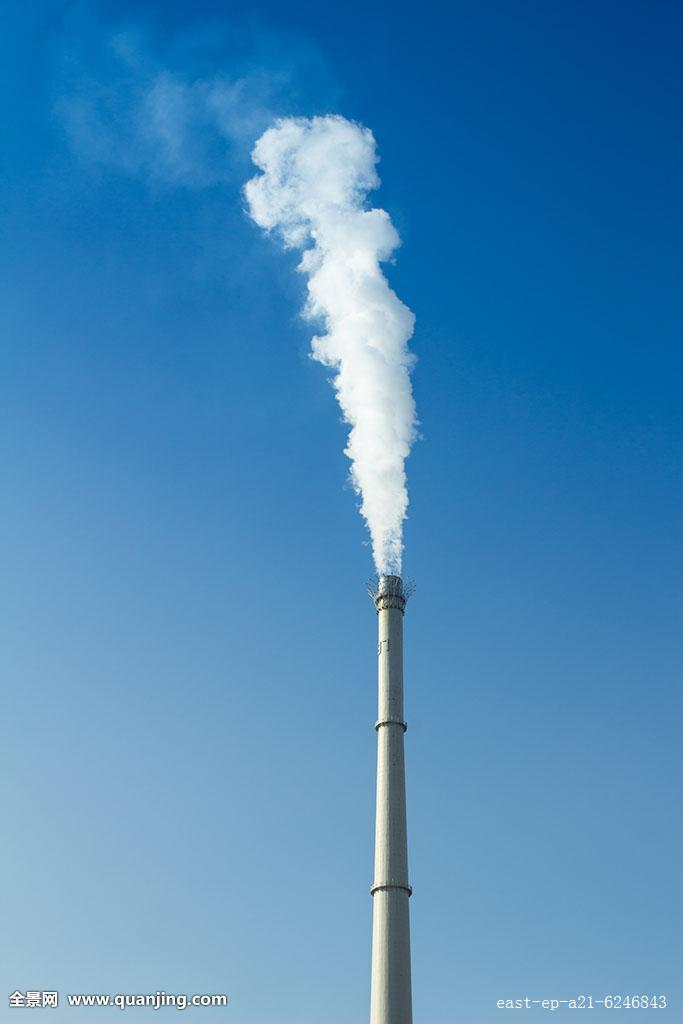dust: (261, 116, 457, 600)
